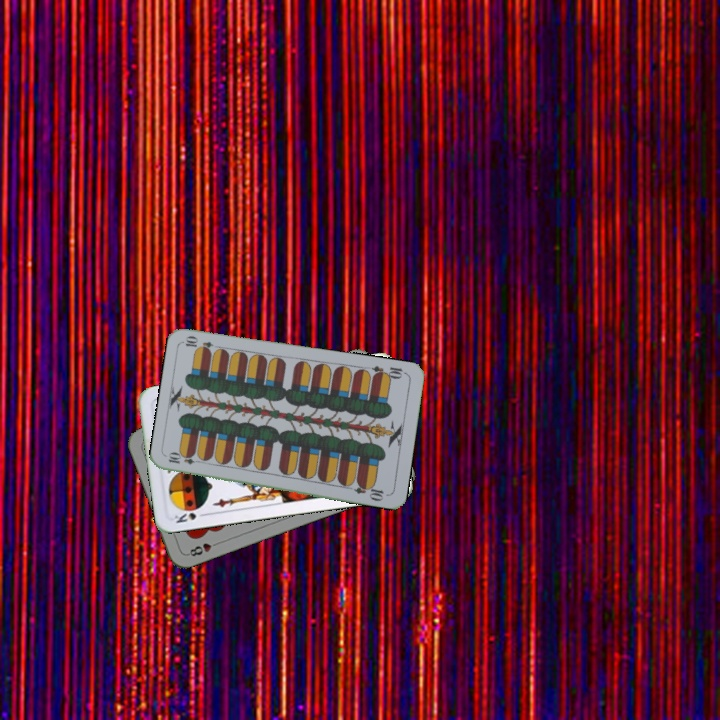E10: (368, 362, 409, 382), (164, 451, 205, 467)
H8: (183, 538, 222, 559)
SK: (170, 509, 210, 526)
